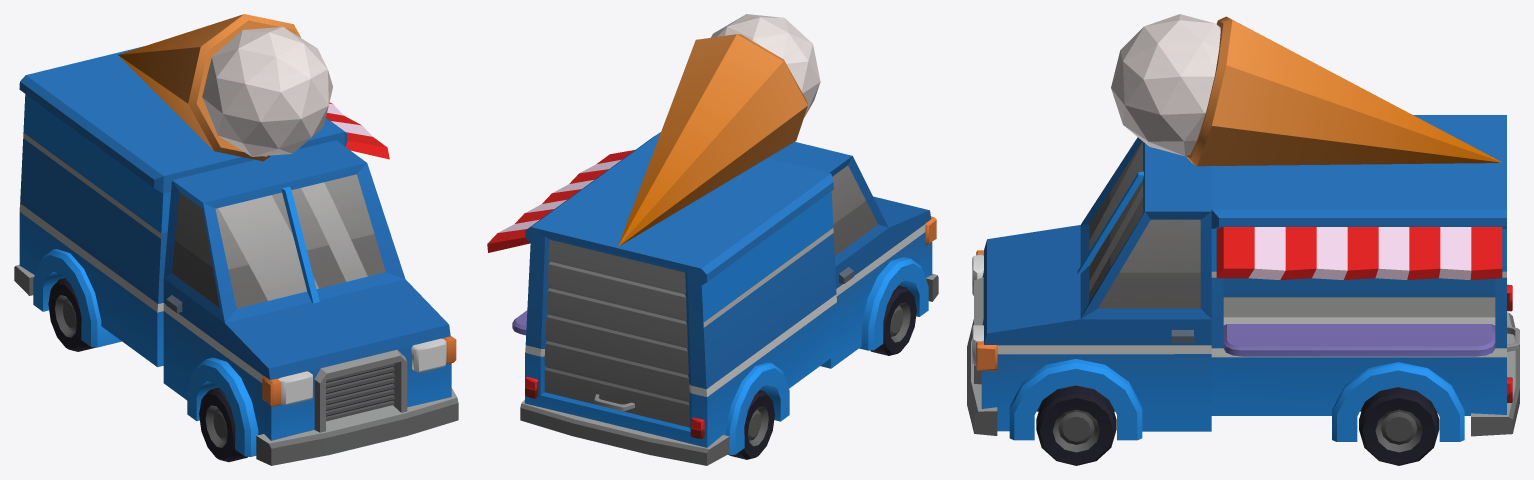
Rendered from IceCreamTruck_2.fbx.
The picture shows the model from 3 angles, left to right: view 1: azimuth 30°, elevation 25°; view 2: azimuth 150°, elevation 25°; view 3: azimuth 270°, elevation 25°; orthographic projection. The views are drawn at different scales.
Parts seen in each view (by area): view 1: IceCreamTruck_2, W_FR.021, W_BR.022; view 2: IceCreamTruck_2, W_FR.021, W_BR.022; view 3: IceCreamTruck_2, W_FL.022, W_BL.022.
Boxes of the visible parts, box(x1,y1,x2,y2) form: IceCreamTruck_2: box(14, 14, 458, 465); W_FR.021: box(199, 387, 247, 462); W_BR.022: box(48, 278, 95, 351); IceCreamTruck_2: box(487, 14, 938, 465); W_FR.021: box(870, 285, 916, 355); W_BR.022: box(729, 390, 774, 459); IceCreamTruck_2: box(967, 14, 1519, 441); W_FL.022: box(1036, 385, 1116, 465); W_BL.022: box(1359, 387, 1439, 465).
Bounding box in the file's own units: 1.34 × 1.9 × 2.41.
